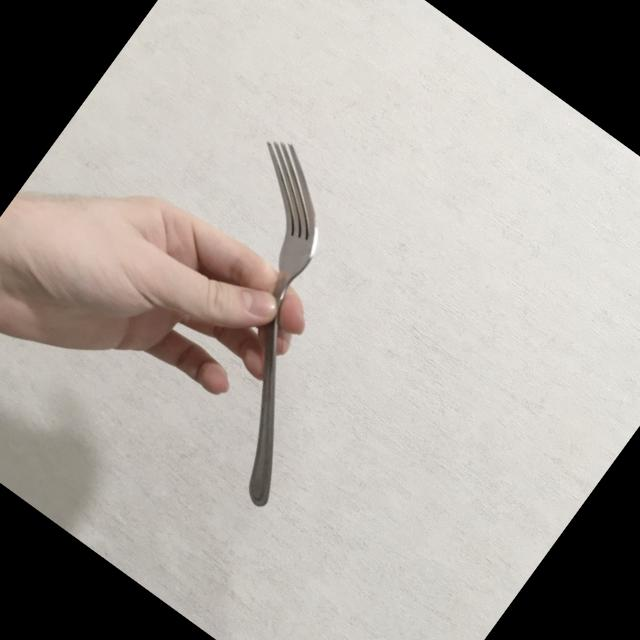fork: (88, 127, 449, 511)
